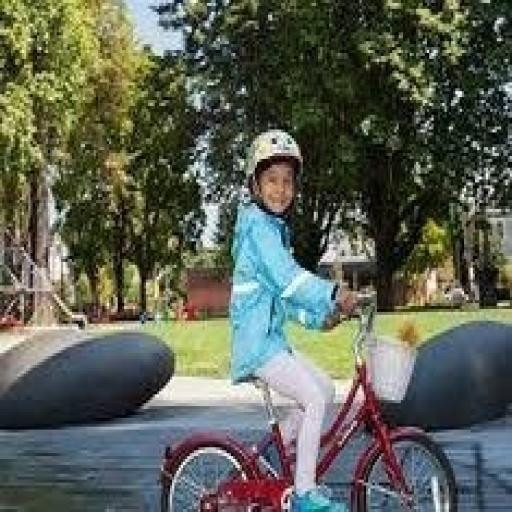cycling: (224, 127, 366, 509)
